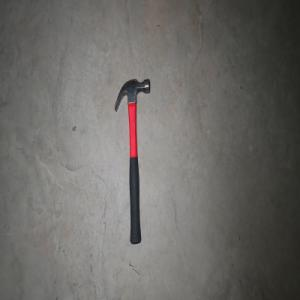Hammer: (113, 78, 150, 245)
